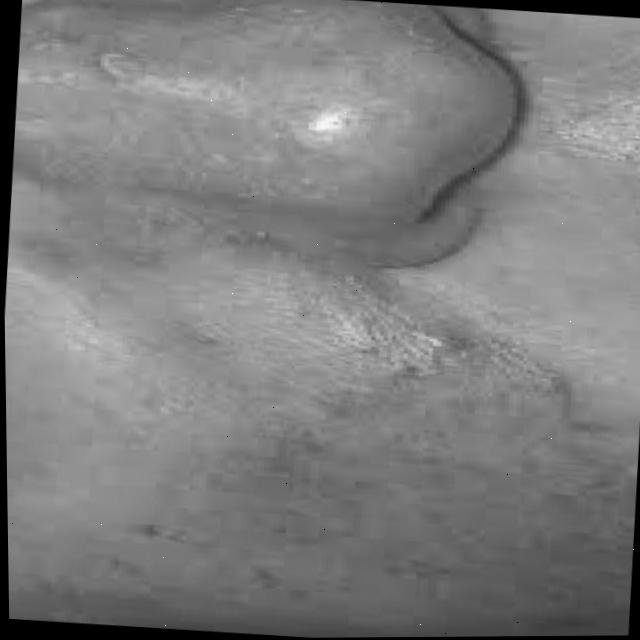Rosacea: (3, 205, 640, 640), (9, 0, 467, 215)
